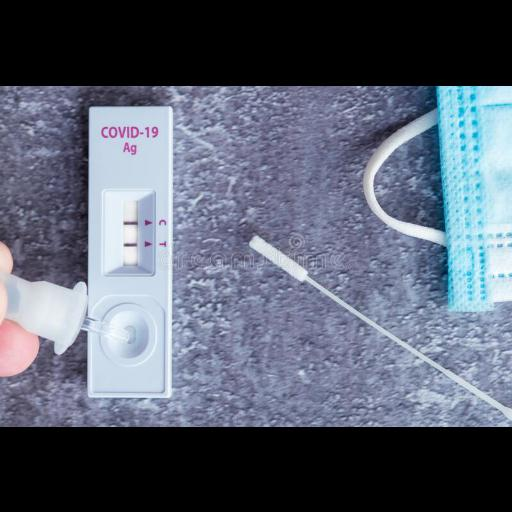Pos: (89, 106, 169, 396)
